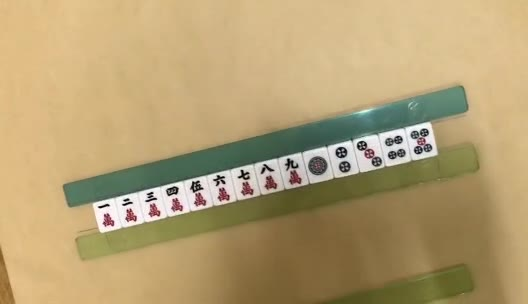1m: (97, 202, 115, 228)
1p: (308, 156, 327, 177)
2m: (121, 197, 139, 225)
2p: (335, 147, 352, 172)
3m: (142, 193, 162, 218)
3p: (358, 139, 382, 166)
4m: (164, 185, 183, 213)
4p: (384, 135, 407, 160)
5m: (189, 180, 208, 207)
5p: (411, 126, 434, 155)
6m: (213, 175, 230, 201)
7m: (238, 169, 253, 196)
8m: (259, 163, 278, 191)
9m: (284, 158, 303, 187)
